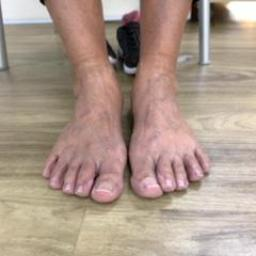Front View -Both Feet-: (26, 44, 224, 218)
